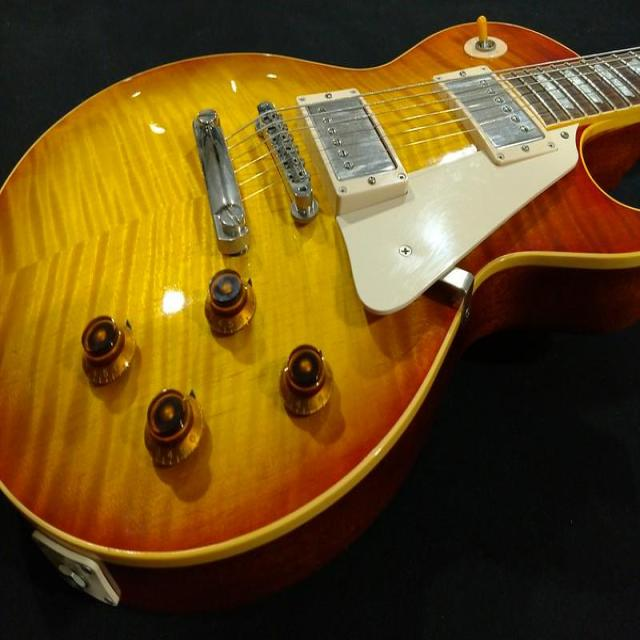guitar: (3, 61, 456, 584)
